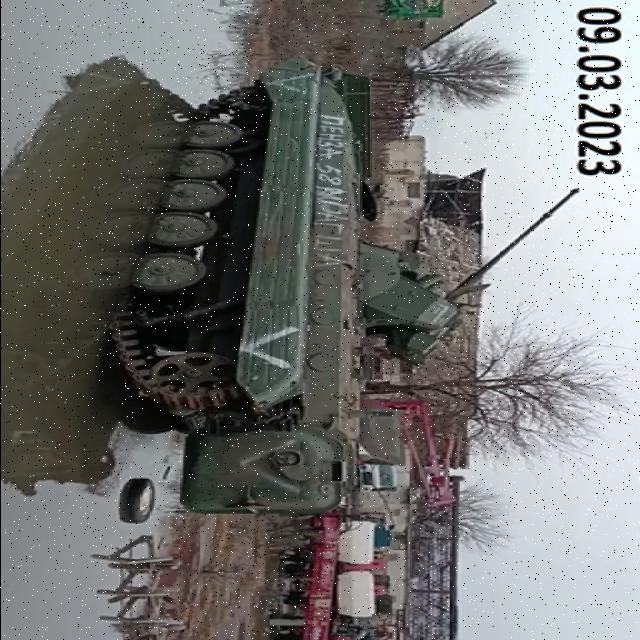APC-IFV: (107, 59, 580, 504)
